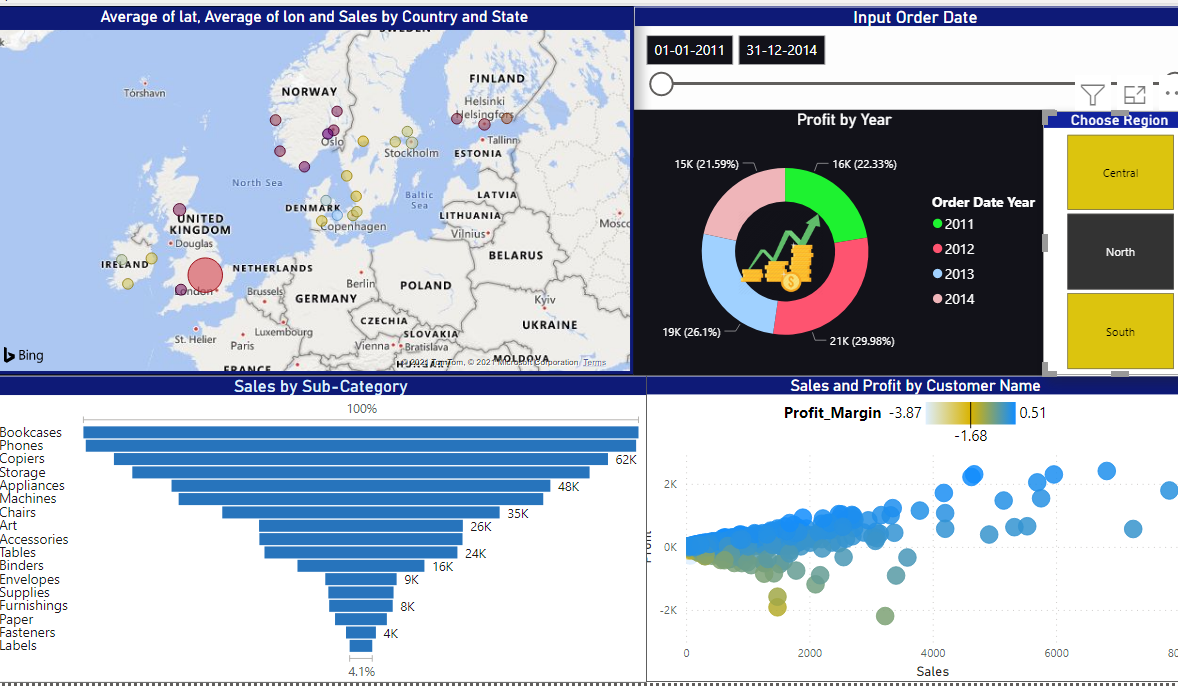

This screenshot's page, from the dashboard's own definition file:
{"tool":"powerbi","page":{"name":"Page 1","canvas":[1280,720],"ordinal":2},"visuals":[{"type":"map","fields":{"Category":["ListOfOrders.Geography.Country","ListOfOrders.Geography.State","ListOfOrders.Geography.City"],"Y":["Avg(ListOfOrders.lat)"],"X":["Avg(ListOfOrders.lon)"],"Size":["Sum(OrderBreakdown.Sales)"]},"box":[0,0,681.7,392.7],"z":0},{"type":"scatterChart","fields":{"X":["Sum(OrderBreakdown.Sales)"],"Y":["Sum(OrderBreakdown.Profit)"],"Category":["ListOfOrders.Customer Name"]},"box":[681.9,392,598.1,326.6],"z":1000},{"type":"slicer","title":"Input Order Date","fields":{"Values":["ListOfOrders.Order Date"]},"box":[681.9,0,598.1,161.3],"z":2000},{"type":"slicer","title":"Choose Region","fields":{"Values":["ListOfOrders.Region"]},"box":[1117,111,163.3,281.7],"z":3000},{"type":"donutChart","fields":{"Y":["Sum(OrderBreakdown.Profit)"],"Category":["ListOfOrders.Order Date.Variation.Date Hierarchy.Year","ListOfOrders.Order Date.Variation.Date Hierarchy.Quarter","ListOfOrders.Order Date.Variation.Date Hierarchy.Month","ListOfOrders.Order Date.Variation.Date Hierarchy.Day"]},"box":[681.7,110.2,448.6,282.6],"z":4000},{"type":"funnel","fields":{"Category":["OrderBreakdown.Sub-Category"],"Y":["Sum(OrderBreakdown.Sales)"]},"box":[0,392.7,696.1,327.3],"z":5000},{"type":"image","box":[696.1,212.3,284.2,100.6],"z":5001}]}

Visuals, with their boxes on the page's 1280x720 design canvas (x1, y1, x2, y2). These are canvas units, not pixel positions in the 1178x687 screenshot, which may show the page scaled, cropped or inside an application window:
map - ListOfOrders.Geography.Country x ListOfOrders.Geography.State: [0,0,682,393]
scatterChart - Sum(OrderBreakdown.Sales) x Sum(OrderBreakdown.Profit): [682,392,1280,719]
"Input Order Date" slicer: [682,0,1280,161]
"Choose Region" slicer: [1117,111,1280,393]
donutChart - Sum(OrderBreakdown.Profit) x ListOfOrders.Order Date.Variation.Date Hierarchy.Year: [682,110,1130,393]
funnel - OrderBreakdown.Sub-Category x Sum(OrderBreakdown.Sales): [0,393,696,720]
image: [696,212,980,313]
